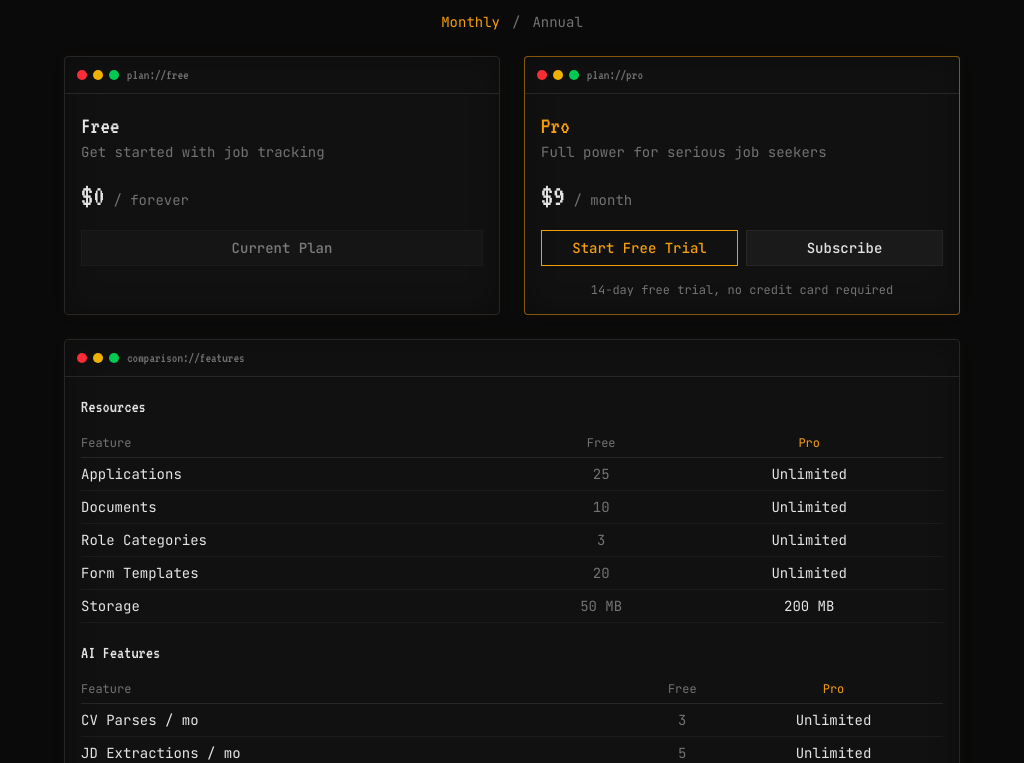
PricingTable (Stripe provider) › toggles to annual pricing
The image size is (1024, 763).
Click the button "Annual" at coordinates (558, 22), box [532,12,583,32]
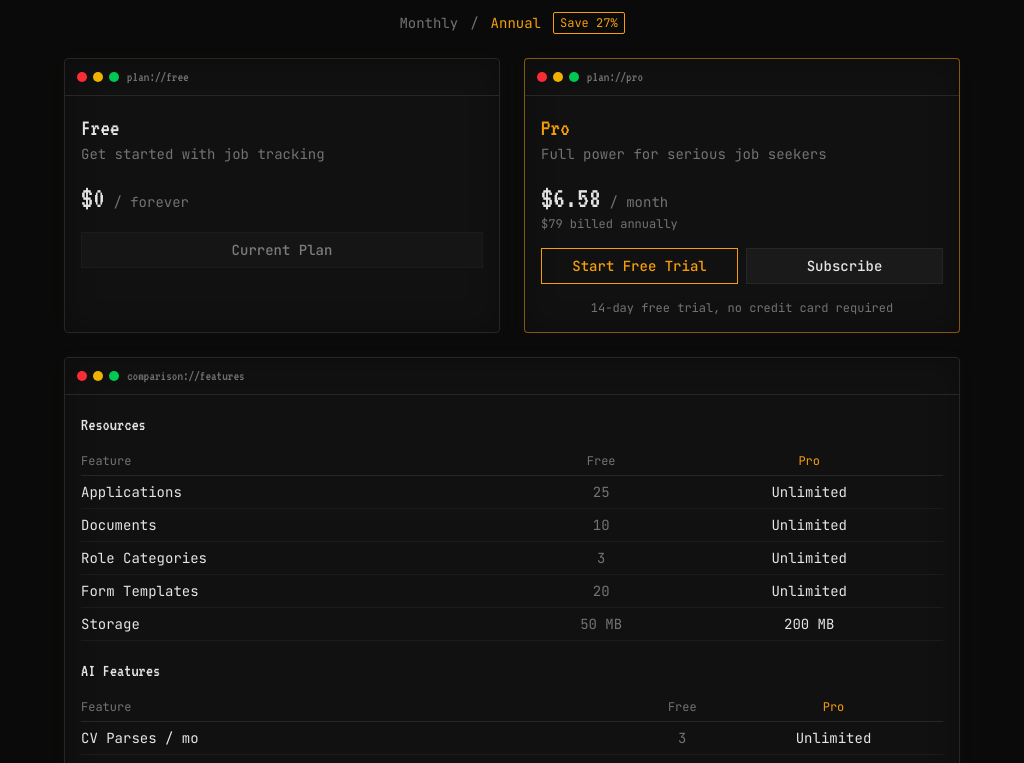
Expected: the text "Save 27%" is shown, [553,12,625,34]
